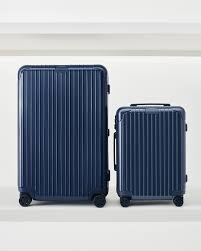suitcase: (14, 62, 111, 210), (114, 101, 190, 208)
